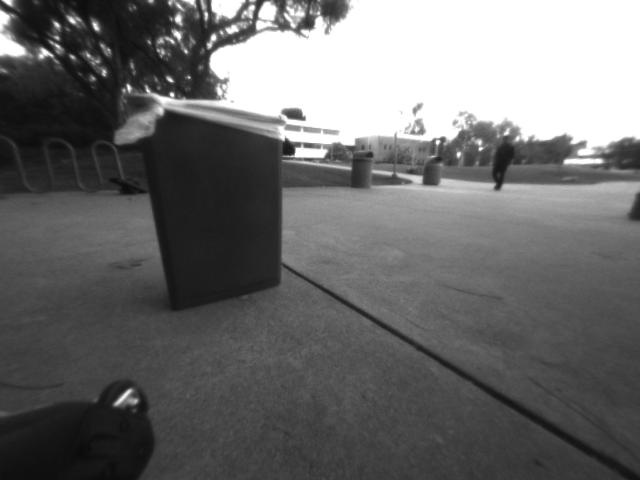trashcan: (109, 85, 299, 320)
